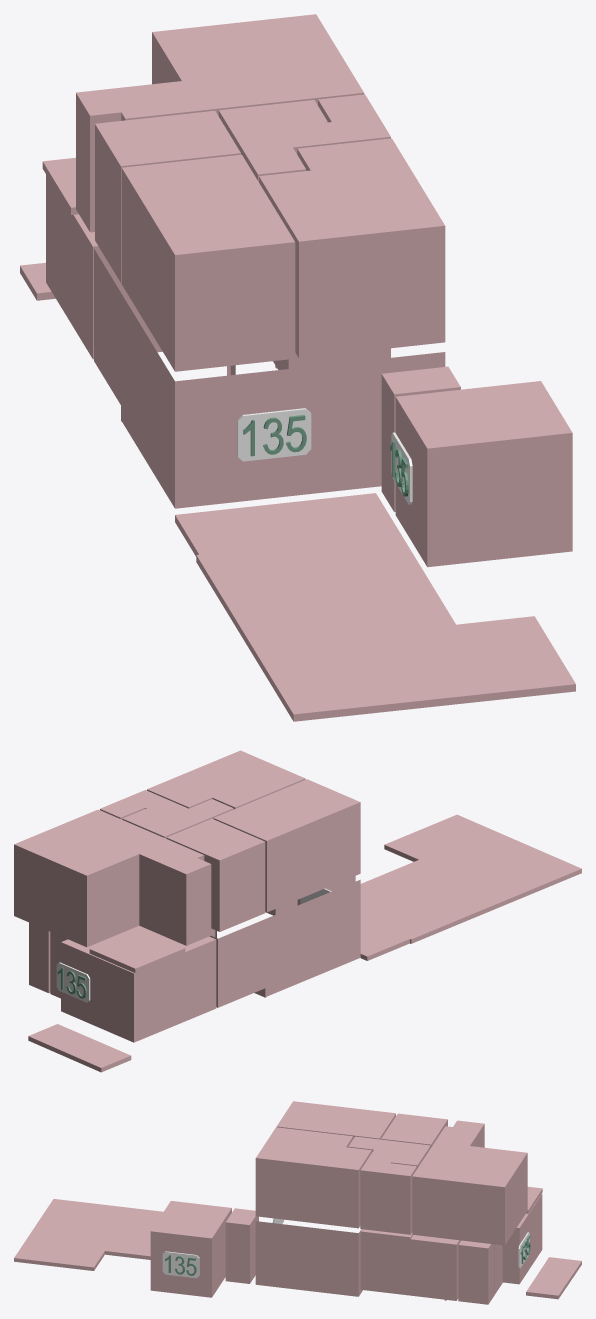
3 renders of one model, top to bottom at view 1: azimuth 30°, elevation 25°; view 2: azimuth 150°, elevation 25°; view 3: azimuth 270°, elevation 25°, orthographic. The views are drawn at different scales.
Parts seen in each view (by area): view 1: g_12, g_1, g_7, g_6, g_5, g_11, g_9, g_0, g_8, g_4, g_22, g_10 (+2 smaller); view 2: g_11, g_12, g_7, g_1, g_0, g_9, g_6, g_14, g_13, g_8, g_3, g_10 (+2 smaller); view 3: g_11, g_6, g_12, g_1, g_2, g_5, g_10, g_7, g_3, g_4, g_0, g_9 (+3 smaller).
Boxes of the visible parts, x1,y1,x2,y2 form: g_12: (175,493,575,721); g_1: (94,249,445,508); g_7: (121,154,295,371); g_6: (259,138,445,358); g_5: (395,381,572,567); g_11: (76,14,364,232); g_9: (95,110,240,282); g_0: (46,174,162,359); g_8: (218,100,336,181); g_4: (381,366,460,511); g_22: (237,408,311,461); g_10: (318,94,390,144); g_11: (14,809,211,947); g_12: (360,814,581,960); g_7: (213,779,360,912); g_1: (209,879,360,1007); g_0: (61,925,216,1042); g_9: (166,818,265,931); g_6: (147,750,305,809); g_14: (89,928,185,972); g_13: (28,1024,131,1072); g_8: (122,799,233,838); g_3: (29,922,50,993); g_10: (100,790,168,819); g_11: (412,1120,527,1245); g_6: (255,1127,371,1228); g_12: (14,1199,163,1270); g_1: (255,1221,362,1296); g_2: (360,1229,502,1300); g_5: (150,1201,231,1297); g_10: (360,1159,416,1234); g_7: (276,1101,395,1139); g_3: (458,1240,494,1304); g_4: (225,1208,258,1283); g_0: (502,1194,542,1284); g_9: (381,1113,447,1147).
Bounding box in the file's own units: 10.14 × 5.35 × 21.05.
